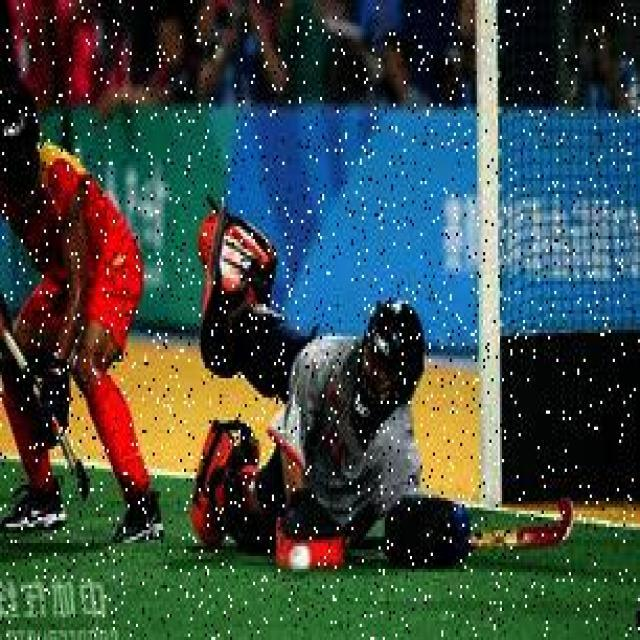fall: (198, 233, 448, 562)
